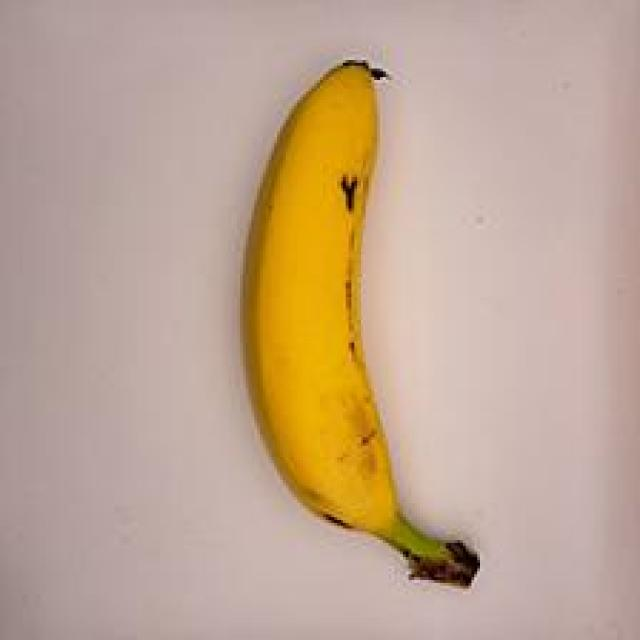ripe: (204, 45, 508, 608)
